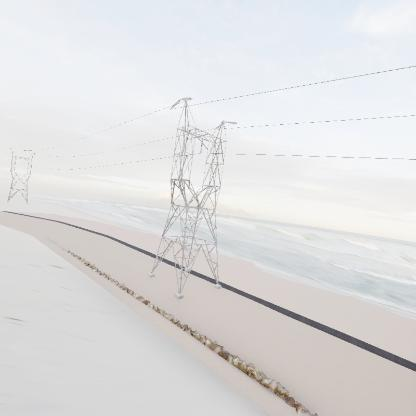tower: (147, 96, 239, 300), (6, 143, 39, 209)
